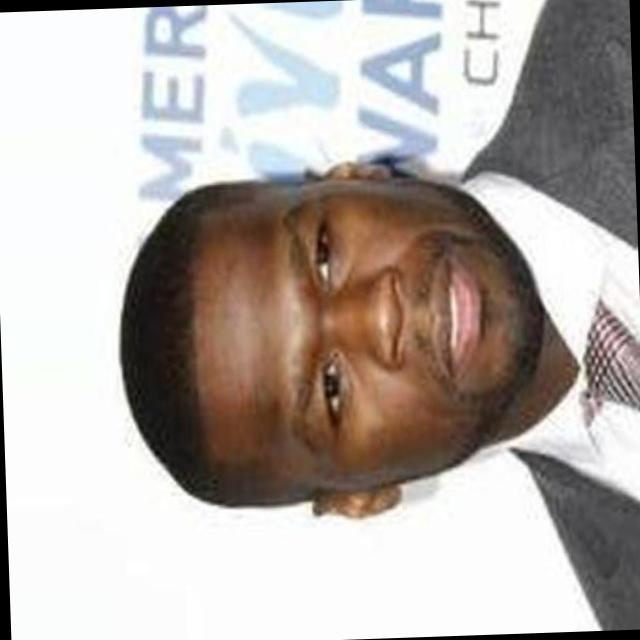bareface: (94, 157, 531, 528)
